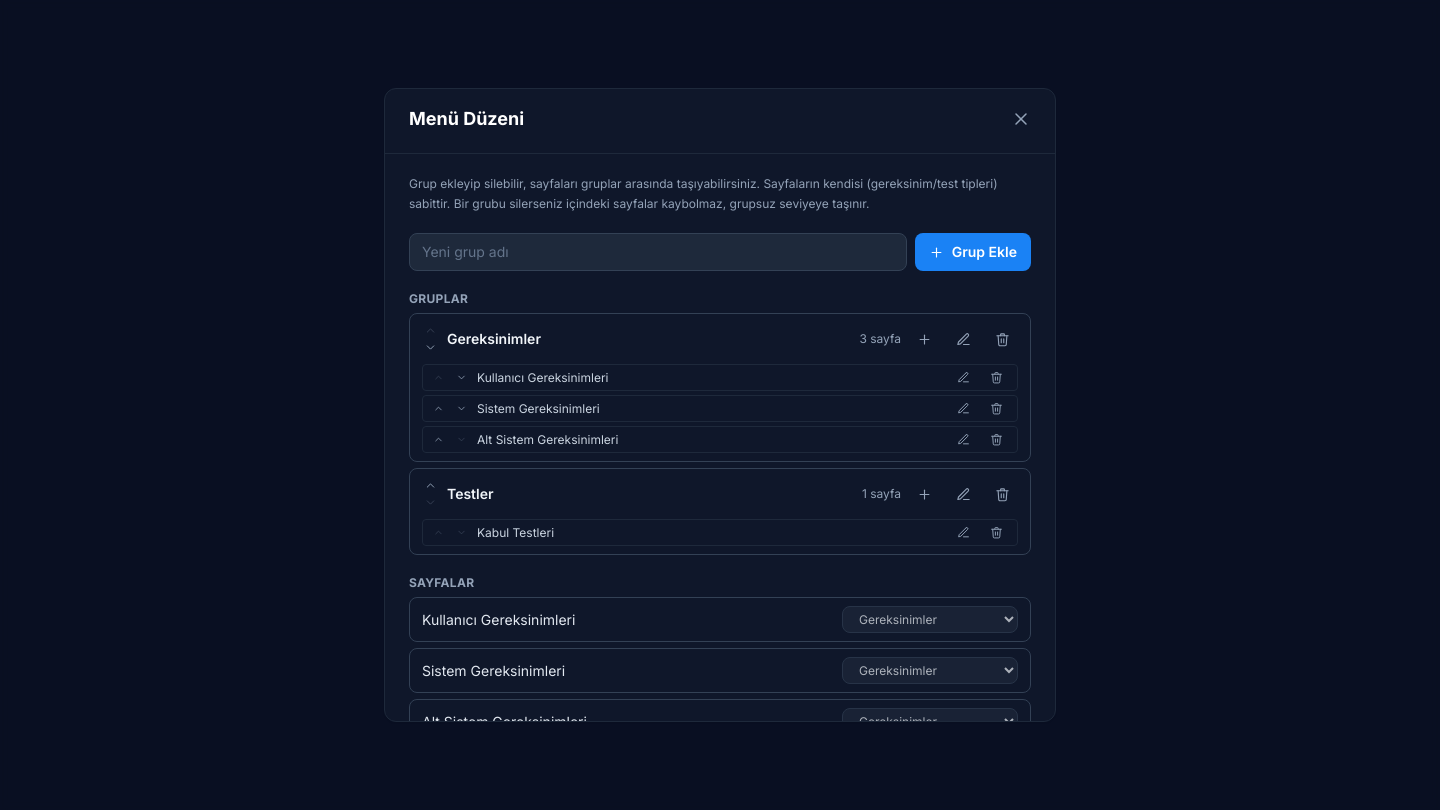
Test: NavManager — grup yeniden adlandirma / silme › cop dugmesi SATIR ICI onay gosterir (window.confirm kullanmaz)
Click the button named "Gereksinimler Sil": x=1002, y=339 [987,324,1018,354]
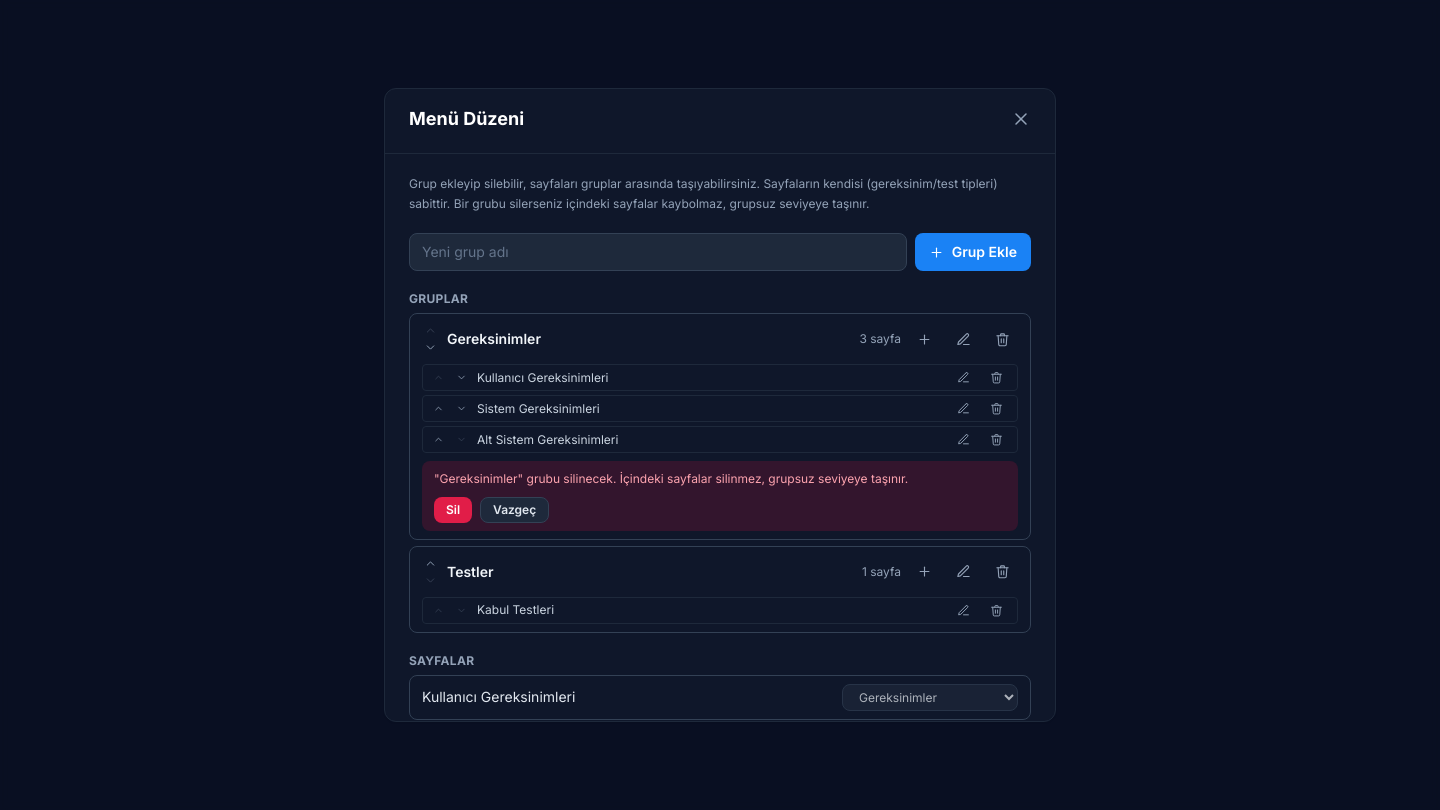
expect the button with test id "nav-group-delete-confirm" is shown: met, box [434,496,472,522]
expect the text "grupsuz seviyeye taşınır" is shown: met, box [434,471,908,486]
